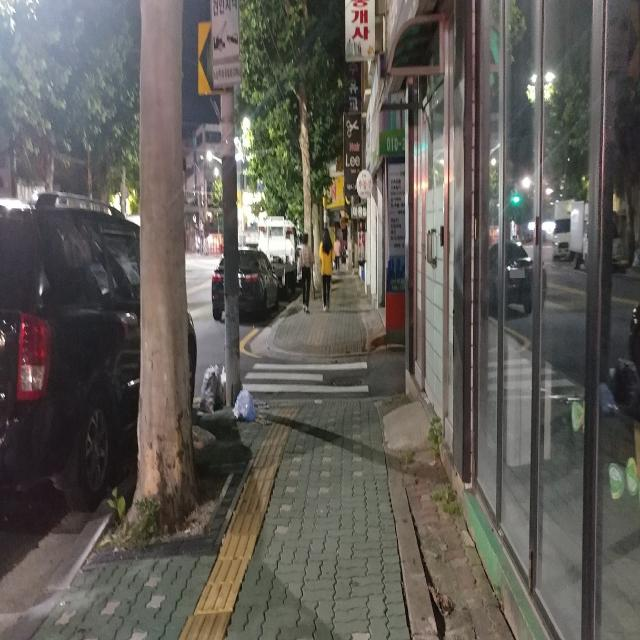횡단보도: (242, 363, 369, 393)
